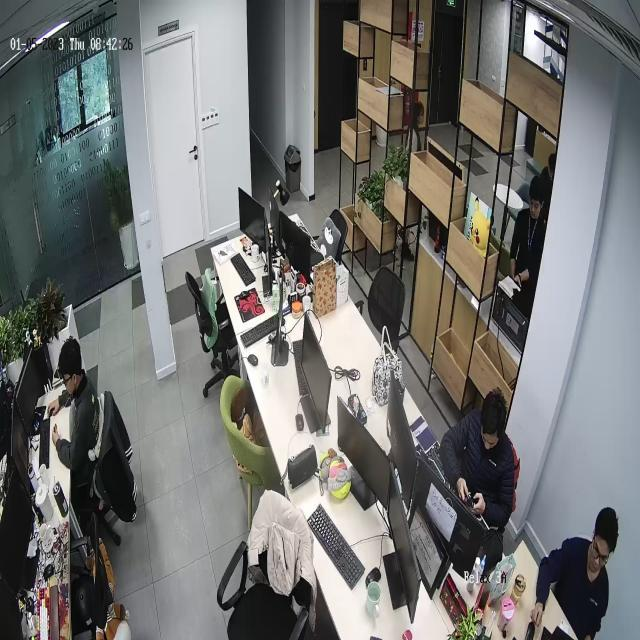person: (525, 506, 618, 640), (438, 387, 515, 537), (46, 337, 103, 495)
